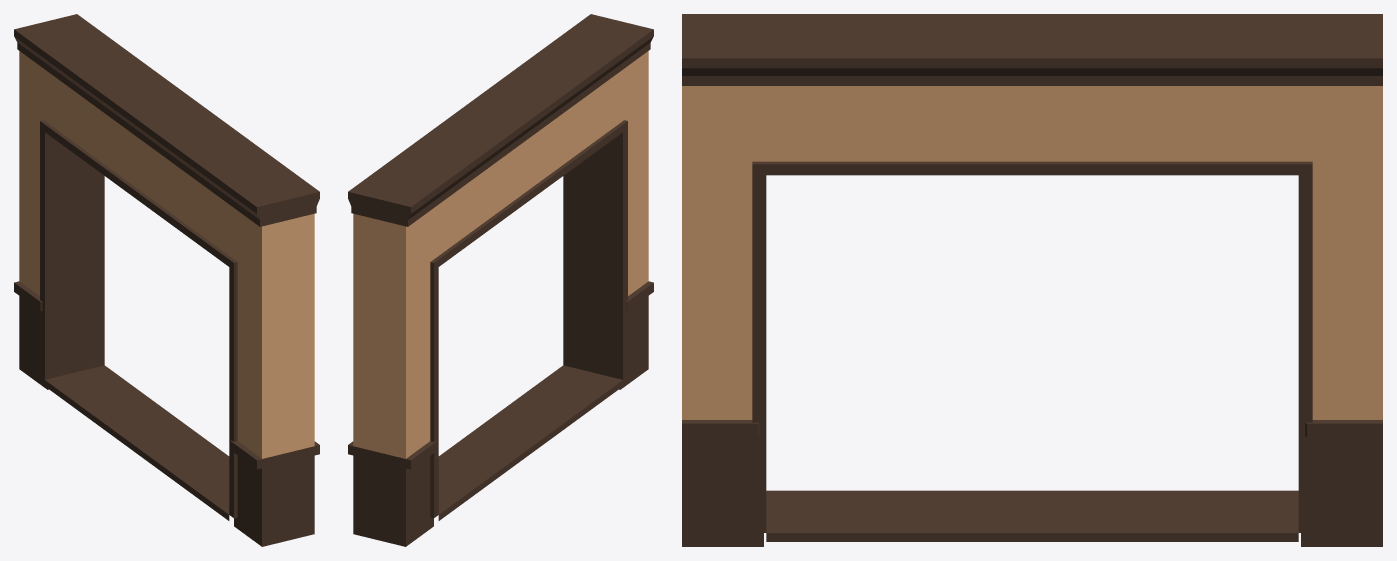
The model's file is S_WallDoorBig.001.fbx.
3 renders of one model, left to right at view 1: azimuth 30°, elevation 25°; view 2: azimuth 150°, elevation 25°; view 3: azimuth 270°, elevation 25°, orthographic. The views are drawn at different scales.
Parts seen in each view (by area): view 1: S_WallDoorBig.001; view 2: S_WallDoorBig.001; view 3: S_WallDoorBig.001.
Part boxes in pixels (bbox=[...]): S_WallDoorBig.001: bbox=[14, 14, 319, 546]; S_WallDoorBig.001: bbox=[348, 14, 653, 546]; S_WallDoorBig.001: bbox=[682, 14, 1382, 546].
Size of the model in its own units: 59.94 by 310 by 400.
